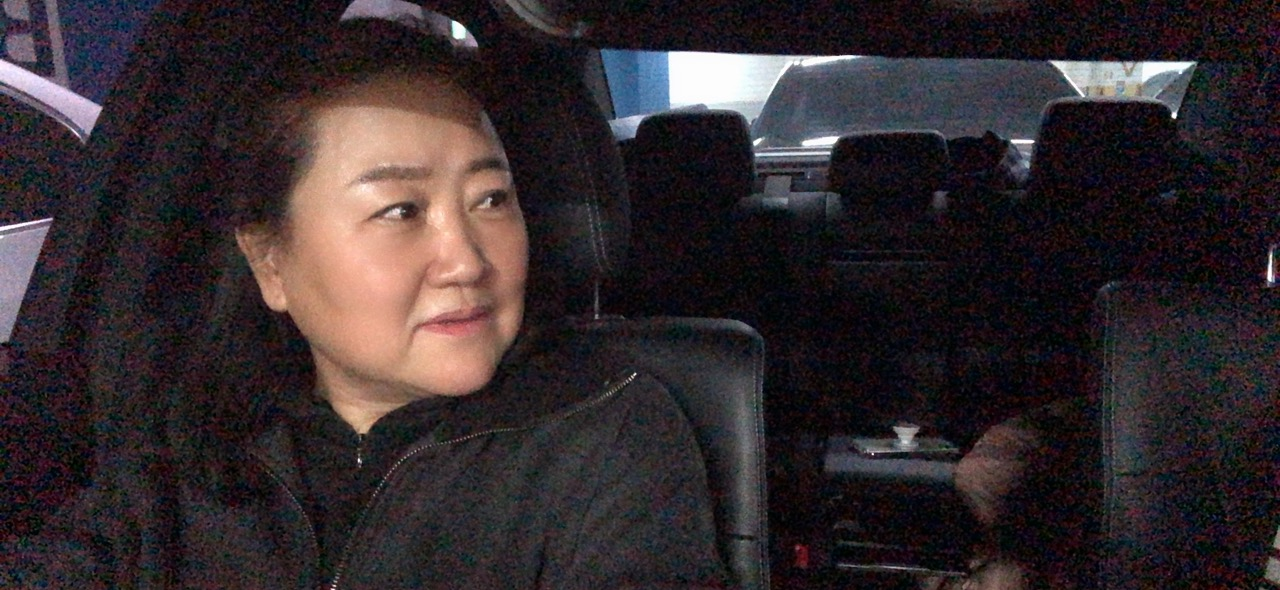right: (25, 9, 707, 590)
